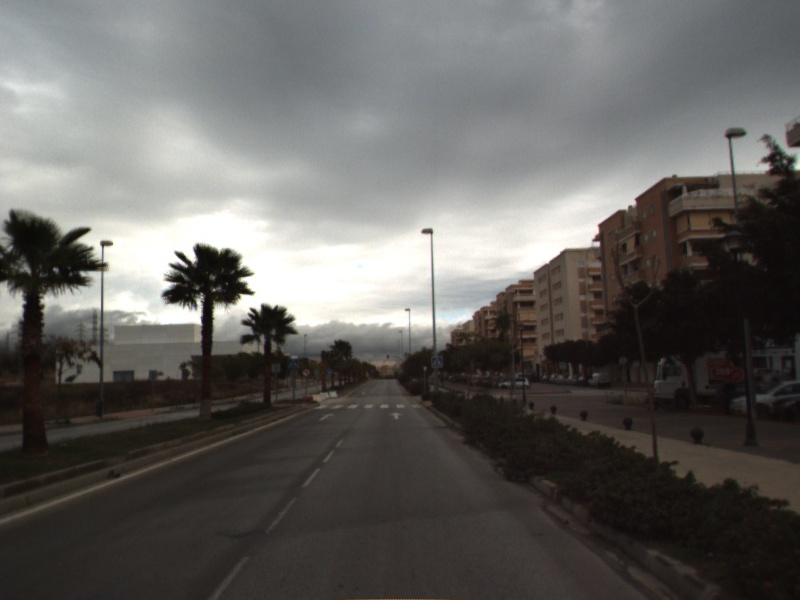STRAIGHT: (316, 410, 337, 423), (387, 410, 404, 421)
